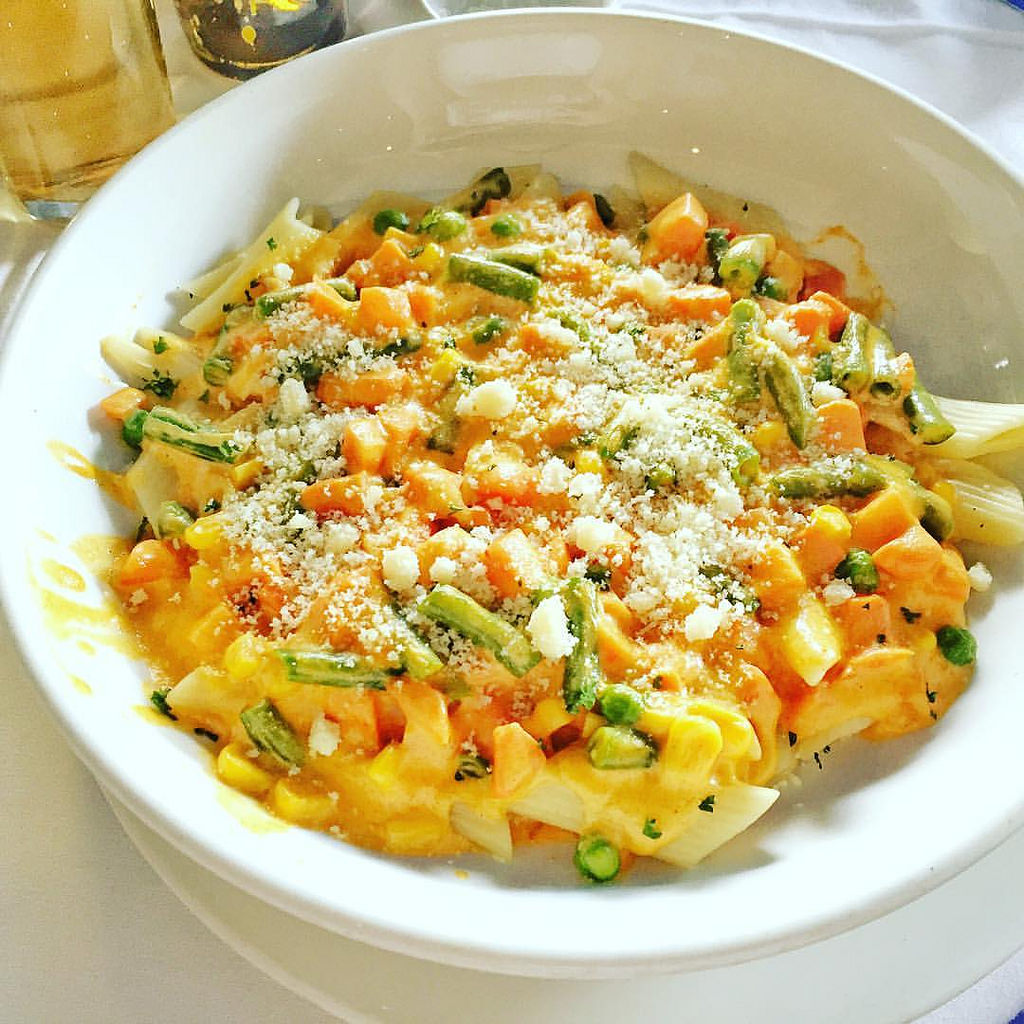boiled peas: (434, 209, 470, 237)
